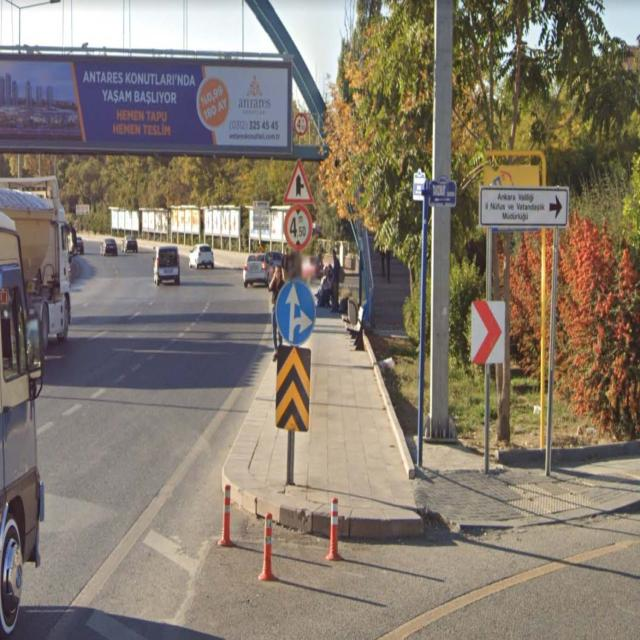ilerisag: (277, 280, 316, 344)
